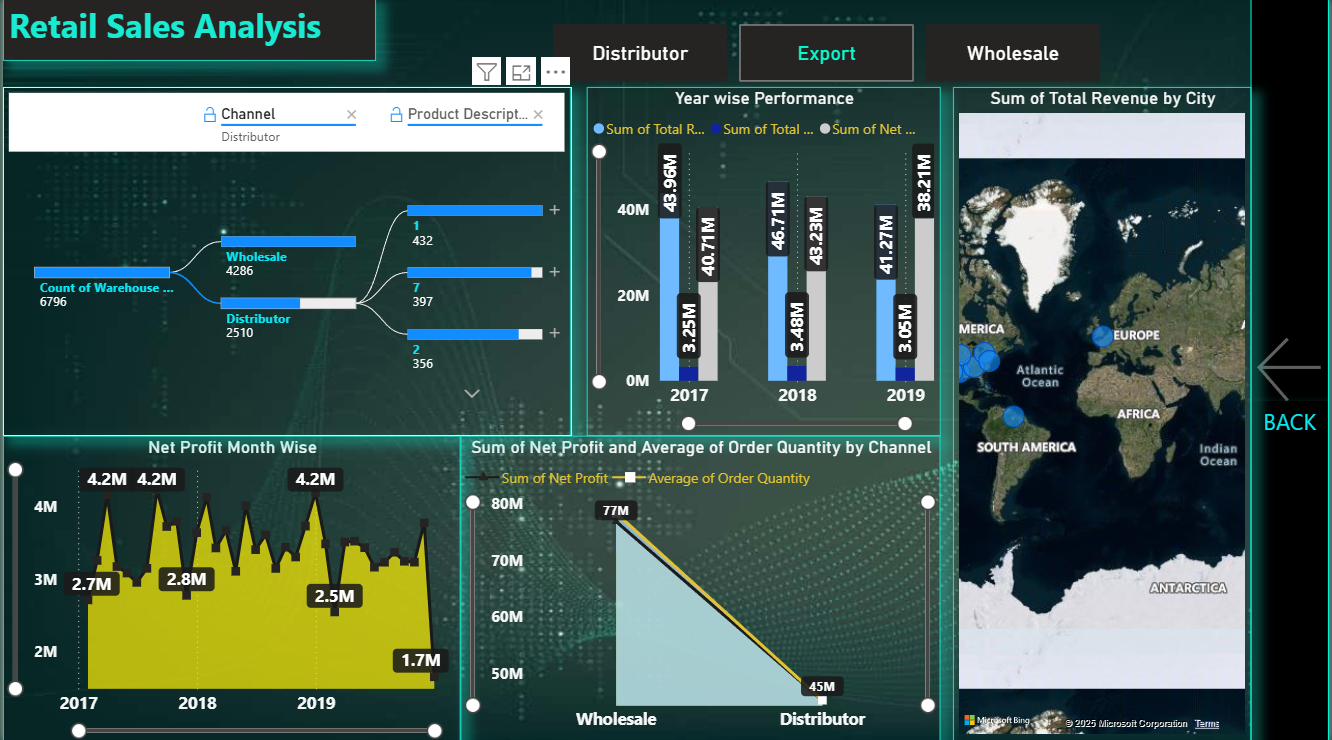

Layout of this report page (visuals, bound fields, positions):
{"tool":"powerbi","page":{"name":"Page 2","canvas":[1280,720],"ordinal":1},"visuals":[{"type":"shape","box":[1204.3,0,75.7,720],"z":0},{"type":"textbox","box":[0,0,360,61.4],"z":1000},{"type":"actionButton","box":[1204,0,76,719],"z":2000},{"type":"areaChart","title":" Net Profit Month Wise","fields":{"Y":["Sum(Sales Orders.Net Profit)"],"Category":["Sales Orders.Calendar"]},"box":[0,423.3,441.7,296.7],"z":3000},{"type":"textbox","box":[1204,389.7,76,329.4],"z":4000},{"type":"advancedSlicerVisual","fields":{"Values":["Sales Orders.Channel"]},"box":[526.2,21.2,538.8,65],"z":5000},{"type":"clusteredColumnChart","title":"Year wise Performance","fields":{"Y":["Sum(Sales Orders.Total Revenue)","Sum(Sales Orders.Total Unit Cost)","Sum(Sales Orders.Net Profit)"],"Category":["Sales Orders.Calendar.Variation.Date Hierarchy.Year"]},"box":[563.3,86.7,341.7,336.7],"z":6000},{"type":"lineChart","fields":{"Category":["Sales Orders.Channel"],"Y":["Sum(Sales Orders.Net Profit)"],"Y2":["Avg(Sales Orders.Order Quantity)"]},"box":[441.7,423.3,463.3,296.7],"z":7000},{"type":"decompositionTreeVisual","fields":{"Analyze":["CountNonNull(Sales Orders.Warehouse Code)"],"ExplainBy":["Sales Orders.Channel","Sales Orders.Product Description Index","Sales Orders.Unit Price"]},"box":[0,86.7,548.3,336.7],"z":8000},{"type":"map","fields":{"Size":["Sum(Sales Orders.Total Revenue)"],"Category":["Regions.City"]},"box":[916.7,86.7,288.3,631.7],"z":9000}]}

Visuals, with their boxes in screenshot pixels (x1, y1, x2, y2), scaled from the page's 1280x720 canvas onto the 1332x740 screenshot:
shape: box(1253, 0, 1331, 739)
textbox: box(0, 0, 375, 63)
actionButton: box(1253, 0, 1331, 739)
" Net Profit Month Wise" areaChart: box(0, 435, 460, 739)
textbox: box(1253, 401, 1331, 739)
advancedSlicerVisual - Sales Orders.Channel: box(548, 22, 1108, 89)
"Year wise Performance" clusteredColumnChart: box(586, 89, 942, 435)
lineChart - Sales Orders.Channel x Sum(Sales Orders.Net Profit): box(460, 435, 942, 739)
decompositionTreeVisual - CountNonNull(Sales Orders.Warehouse Code) x Sales Orders.Channel: box(0, 89, 571, 435)
map - Sum(Sales Orders.Total Revenue) x Regions.City: box(954, 89, 1254, 738)
